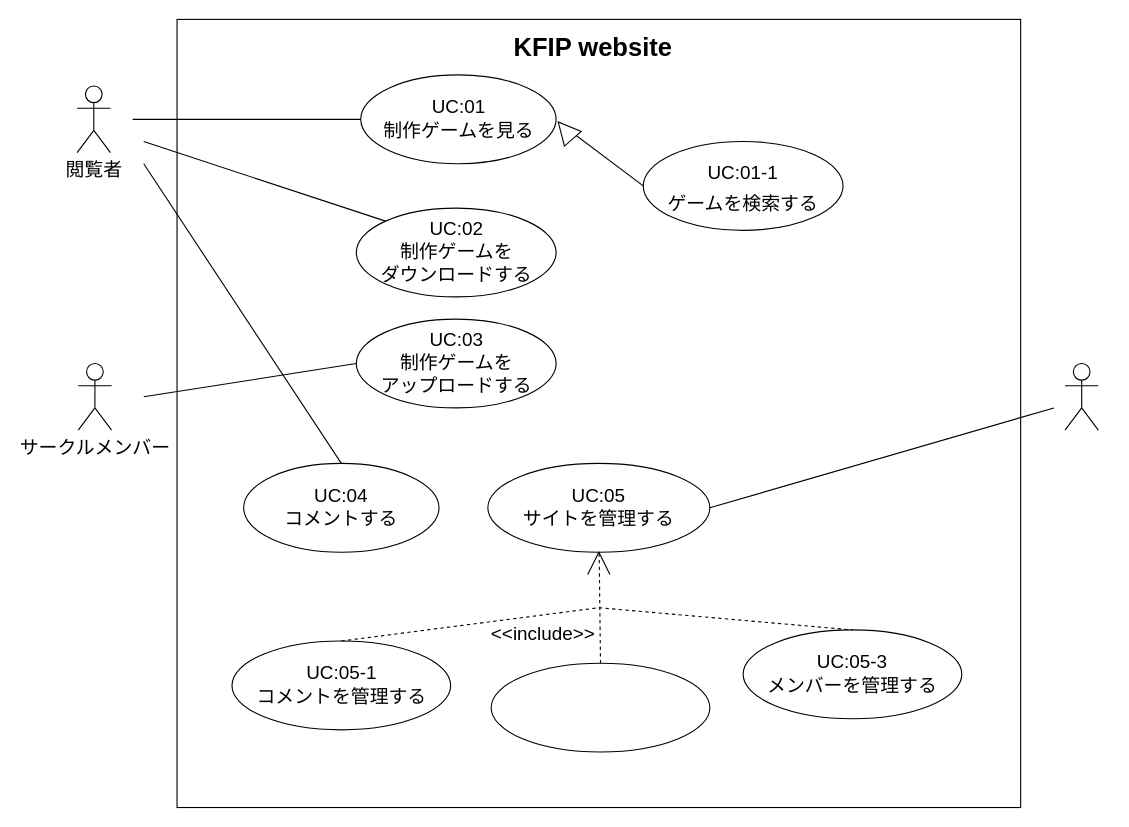
The diagram is 1129 pixels wide and 827 high, and some of its shapes have lost their labels. Here are the shapes that lost their labels. From the top down, the box of each, then its label:
(1064, 362, 1098, 430): 管理者
(490, 662, 710, 752): UC:05-2 お知らせを管理する
